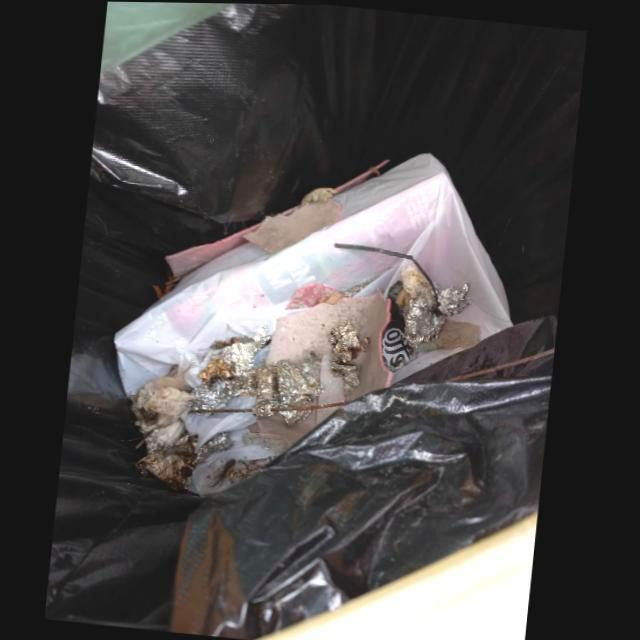aluminum: (387, 261, 470, 341), (195, 323, 271, 409), (253, 353, 323, 426), (132, 420, 199, 489), (330, 317, 371, 386)
plastic_bag: (118, 150, 508, 398)
